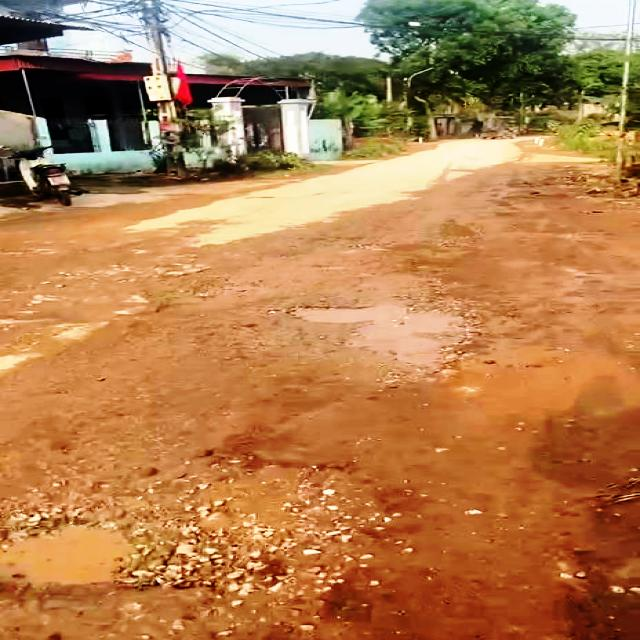pothole: (0, 450, 392, 605), (291, 300, 483, 370)
